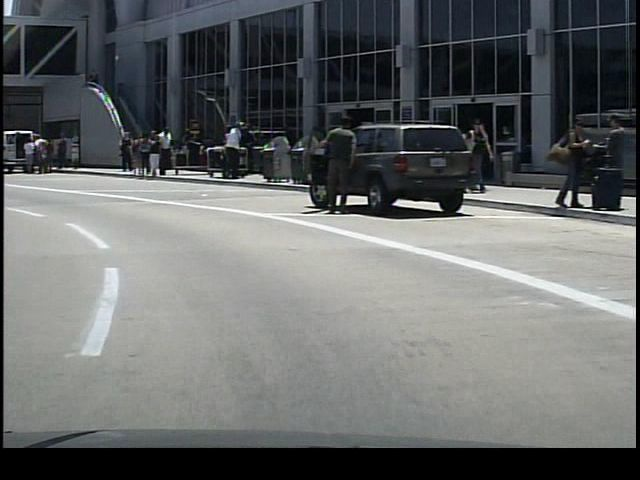person: (313, 113, 356, 219), (545, 115, 585, 212), (595, 112, 627, 207), (462, 113, 495, 200), (220, 119, 246, 183), (142, 130, 163, 180), (51, 129, 73, 176), (157, 124, 174, 179), (31, 132, 51, 176), (113, 129, 132, 174), (19, 137, 38, 177)
